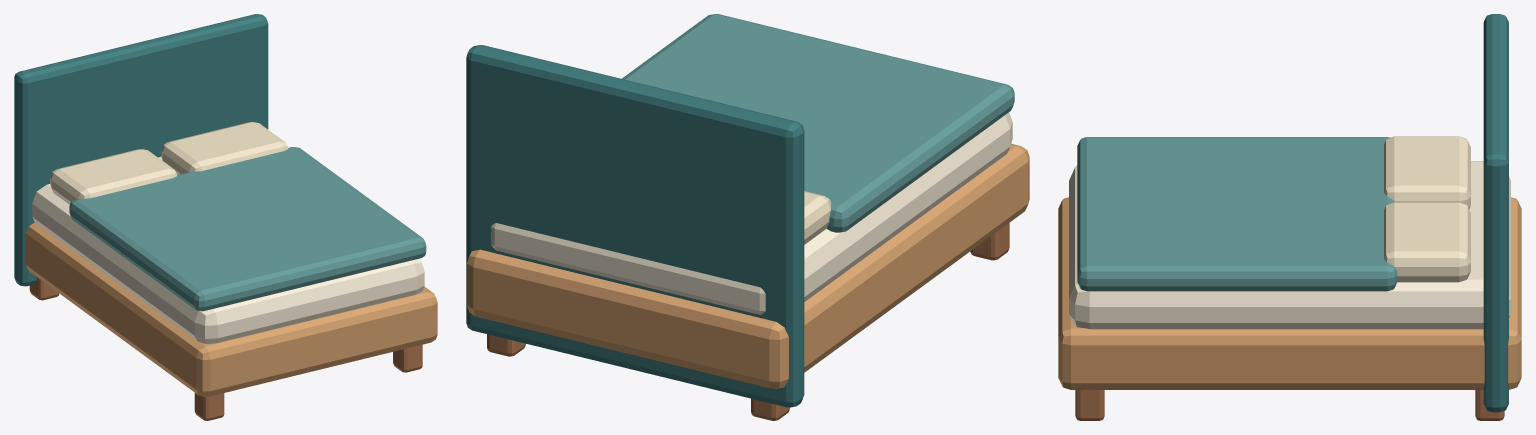
Rendered from bedroom_bed.glb.
The picture shows the model from 3 angles, left to right: view 1: azimuth 30°, elevation 25°; view 2: azimuth 150°, elevation 25°; view 3: azimuth 270°, elevation 25°; orthographic projection. The views are drawn at different scales.
Parts seen in each view (by area): view 1: bedroom_bed_Mesh; view 2: bedroom_bed_Mesh; view 3: bedroom_bed_Mesh.
Part boxes in pixels (x1,y1,x2,y2): bedroom_bed_Mesh: (14, 14, 437, 420); bedroom_bed_Mesh: (466, 14, 1029, 420); bedroom_bed_Mesh: (1058, 14, 1521, 420).
Size of the model in its own units: 1.66 by 1.44 by 2.2.
